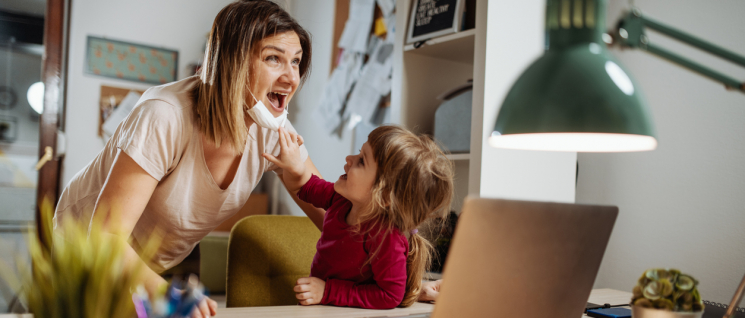with_incorrect_mask: (252, 39, 299, 127)
without_mask: (340, 137, 372, 195)
